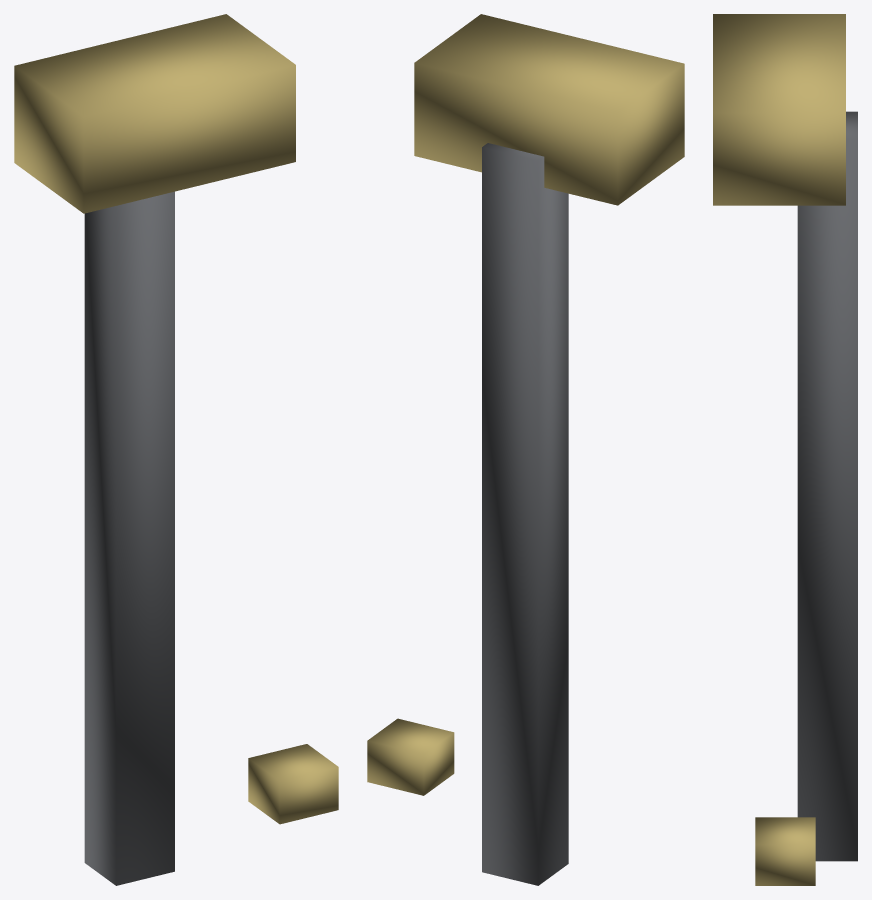
The model's file is dock_light_08.glb.
3 views of the same model, side by side, from view 1: azimuth 30°, elevation 25°; view 2: azimuth 150°, elevation 25°; view 3: azimuth 270°, elevation 25° (orthographic). The views are drawn at different scales.
Visible parts, largest first — view 1: world; view 2: world; view 3: world.
Part boxes in pixels (<box>): world: <box>14,14,338,885</box>; world: <box>367,14,684,885</box>; world: <box>713,14,857,885</box>.
Size of the model in its own units: 0.5264 by 1.49 by 0.2496.
